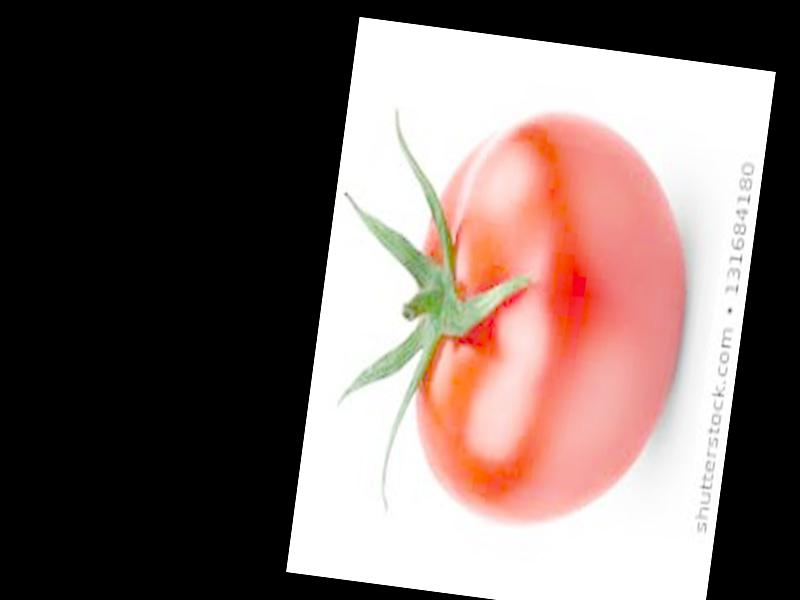Tomato: (391, 95, 704, 541)
